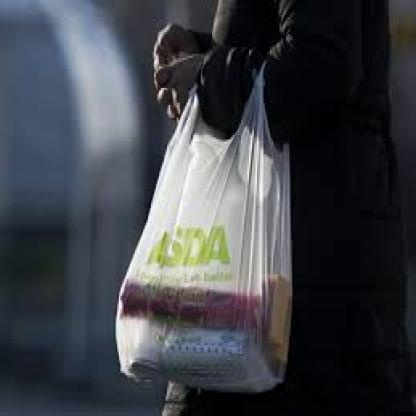trash: (116, 70, 291, 391)
